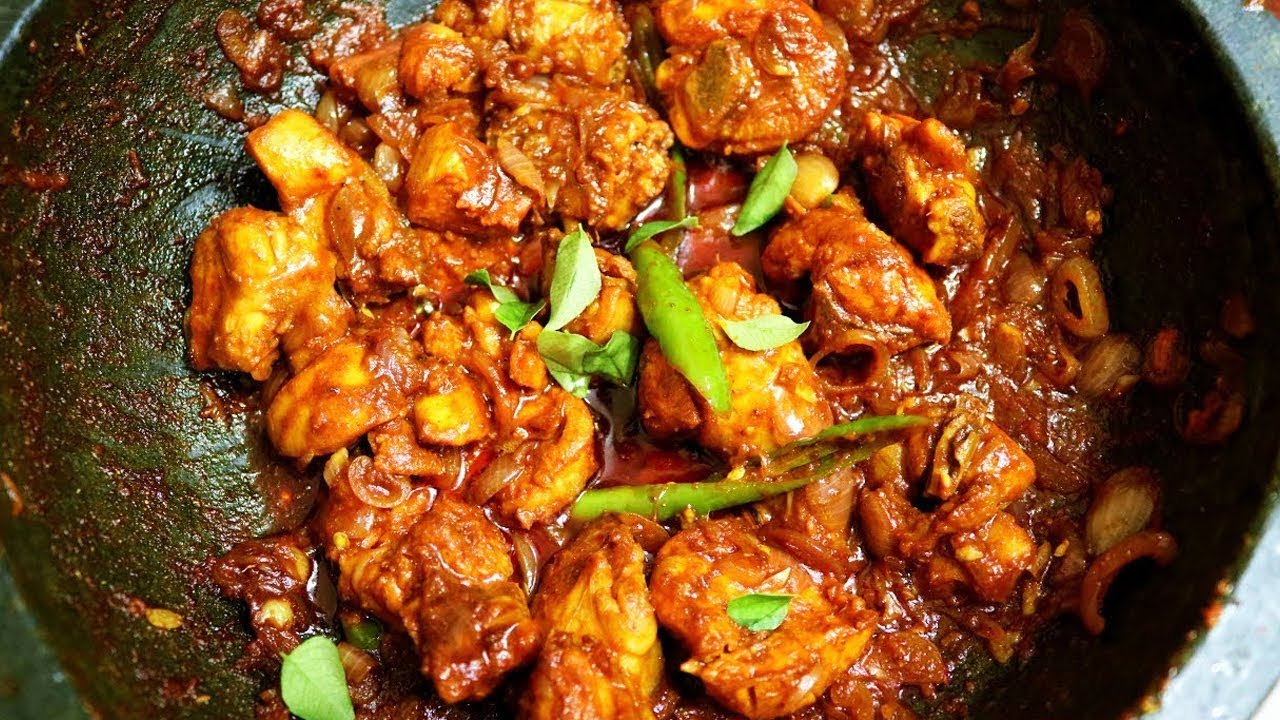chicken_curry: (140, 16, 1197, 694)
